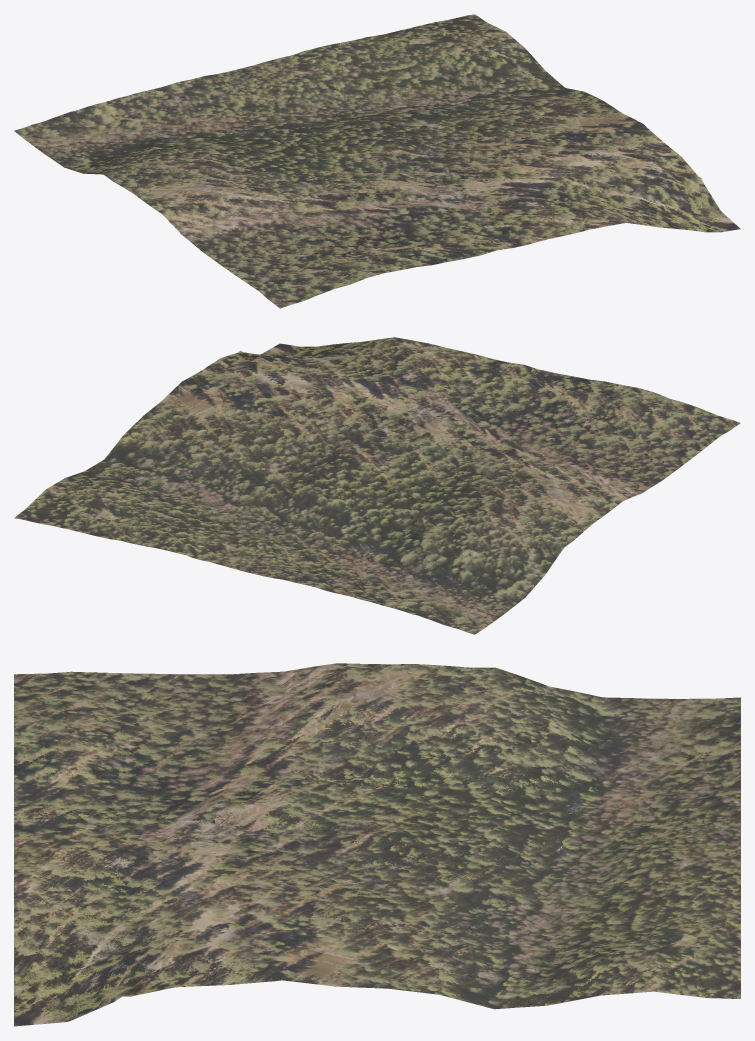
The model's file is CM_Terrain_24490254_6822456.fbx.
3 views of the same model, one above another, from view 1: azimuth 30°, elevation 25°; view 2: azimuth 150°, elevation 25°; view 3: azimuth 270°, elevation 25° (orthographic). The views are drawn at different scales.
Visible parts, largest first — view 1: CM_Terrain_24490254_6822456_LOD0; view 2: CM_Terrain_24490254_6822456_LOD0; view 3: CM_Terrain_24490254_6822456_LOD0.
Boxes of the visible parts, x1=… form: CM_Terrain_24490254_6822456_LOD0: x1=14, y1=14, x2=740, y2=308; CM_Terrain_24490254_6822456_LOD0: x1=14, y1=337, x2=740, y2=634; CM_Terrain_24490254_6822456_LOD0: x1=14, y1=663, x2=740, y2=1026.
Size of what is drawn, in the model's own units: 205 by 19.27 by 205.
